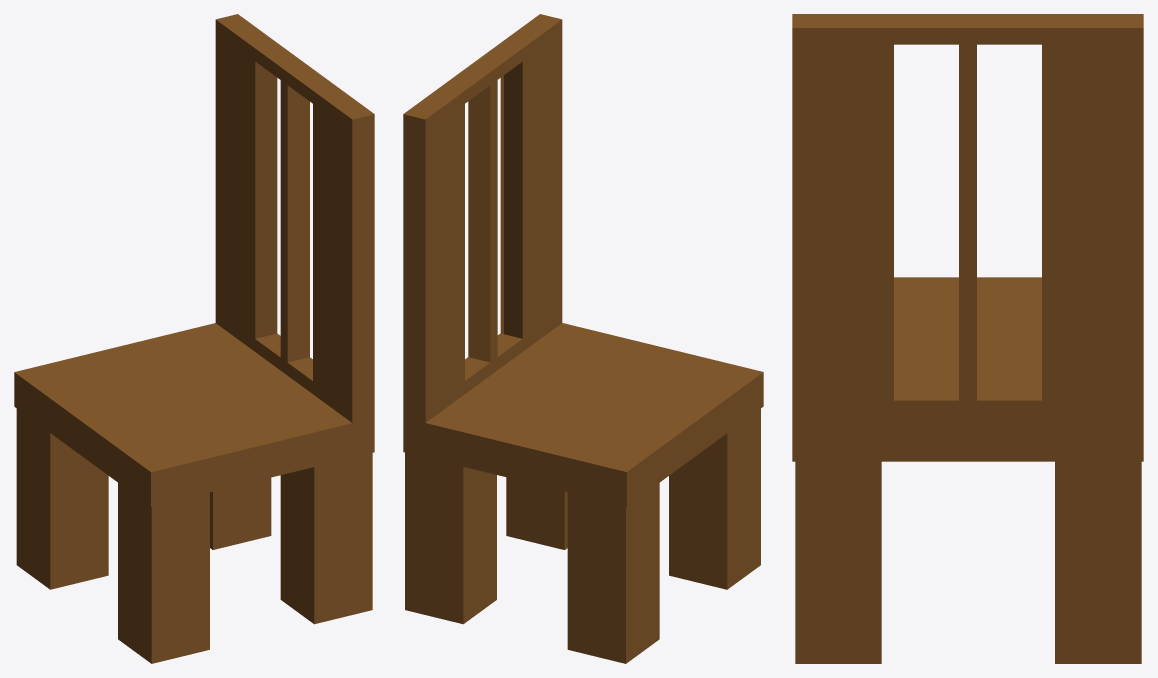
The model's file is chair6.fbx.
The picture shows the model from 3 angles, left to right: view 1: azimuth 30°, elevation 25°; view 2: azimuth 150°, elevation 25°; view 3: azimuth 270°, elevation 25°; orthographic projection. The views are drawn at different scales.
Visible parts, largest first — view 1: Cube.031, Cube.028, Cube.027, Cube.029, Cube.030; view 2: Cube.031, Cube.029, Cube.030, Cube.028, Cube.027; view 3: Cube.031, Cube.027, Cube.030.
Boxes of the visible parts, box(x1,y1,x2,y2) form: Cube.031: box(14, 14, 374, 506); Cube.028: box(118, 483, 209, 663); Cube.027: box(280, 453, 372, 624); Cube.029: box(16, 409, 108, 589); Cube.030: box(210, 477, 271, 549); Cube.031: box(403, 14, 763, 506); Cube.029: box(567, 483, 659, 663); Cube.030: box(405, 452, 496, 624); Cube.028: box(669, 409, 760, 589); Cube.027: box(506, 477, 567, 549); Cube.031: box(792, 14, 1143, 461); Cube.027: box(795, 461, 881, 663); Cube.030: box(1055, 461, 1141, 663).
Bounding box in the file's own units: 492 × 1043 × 522.
